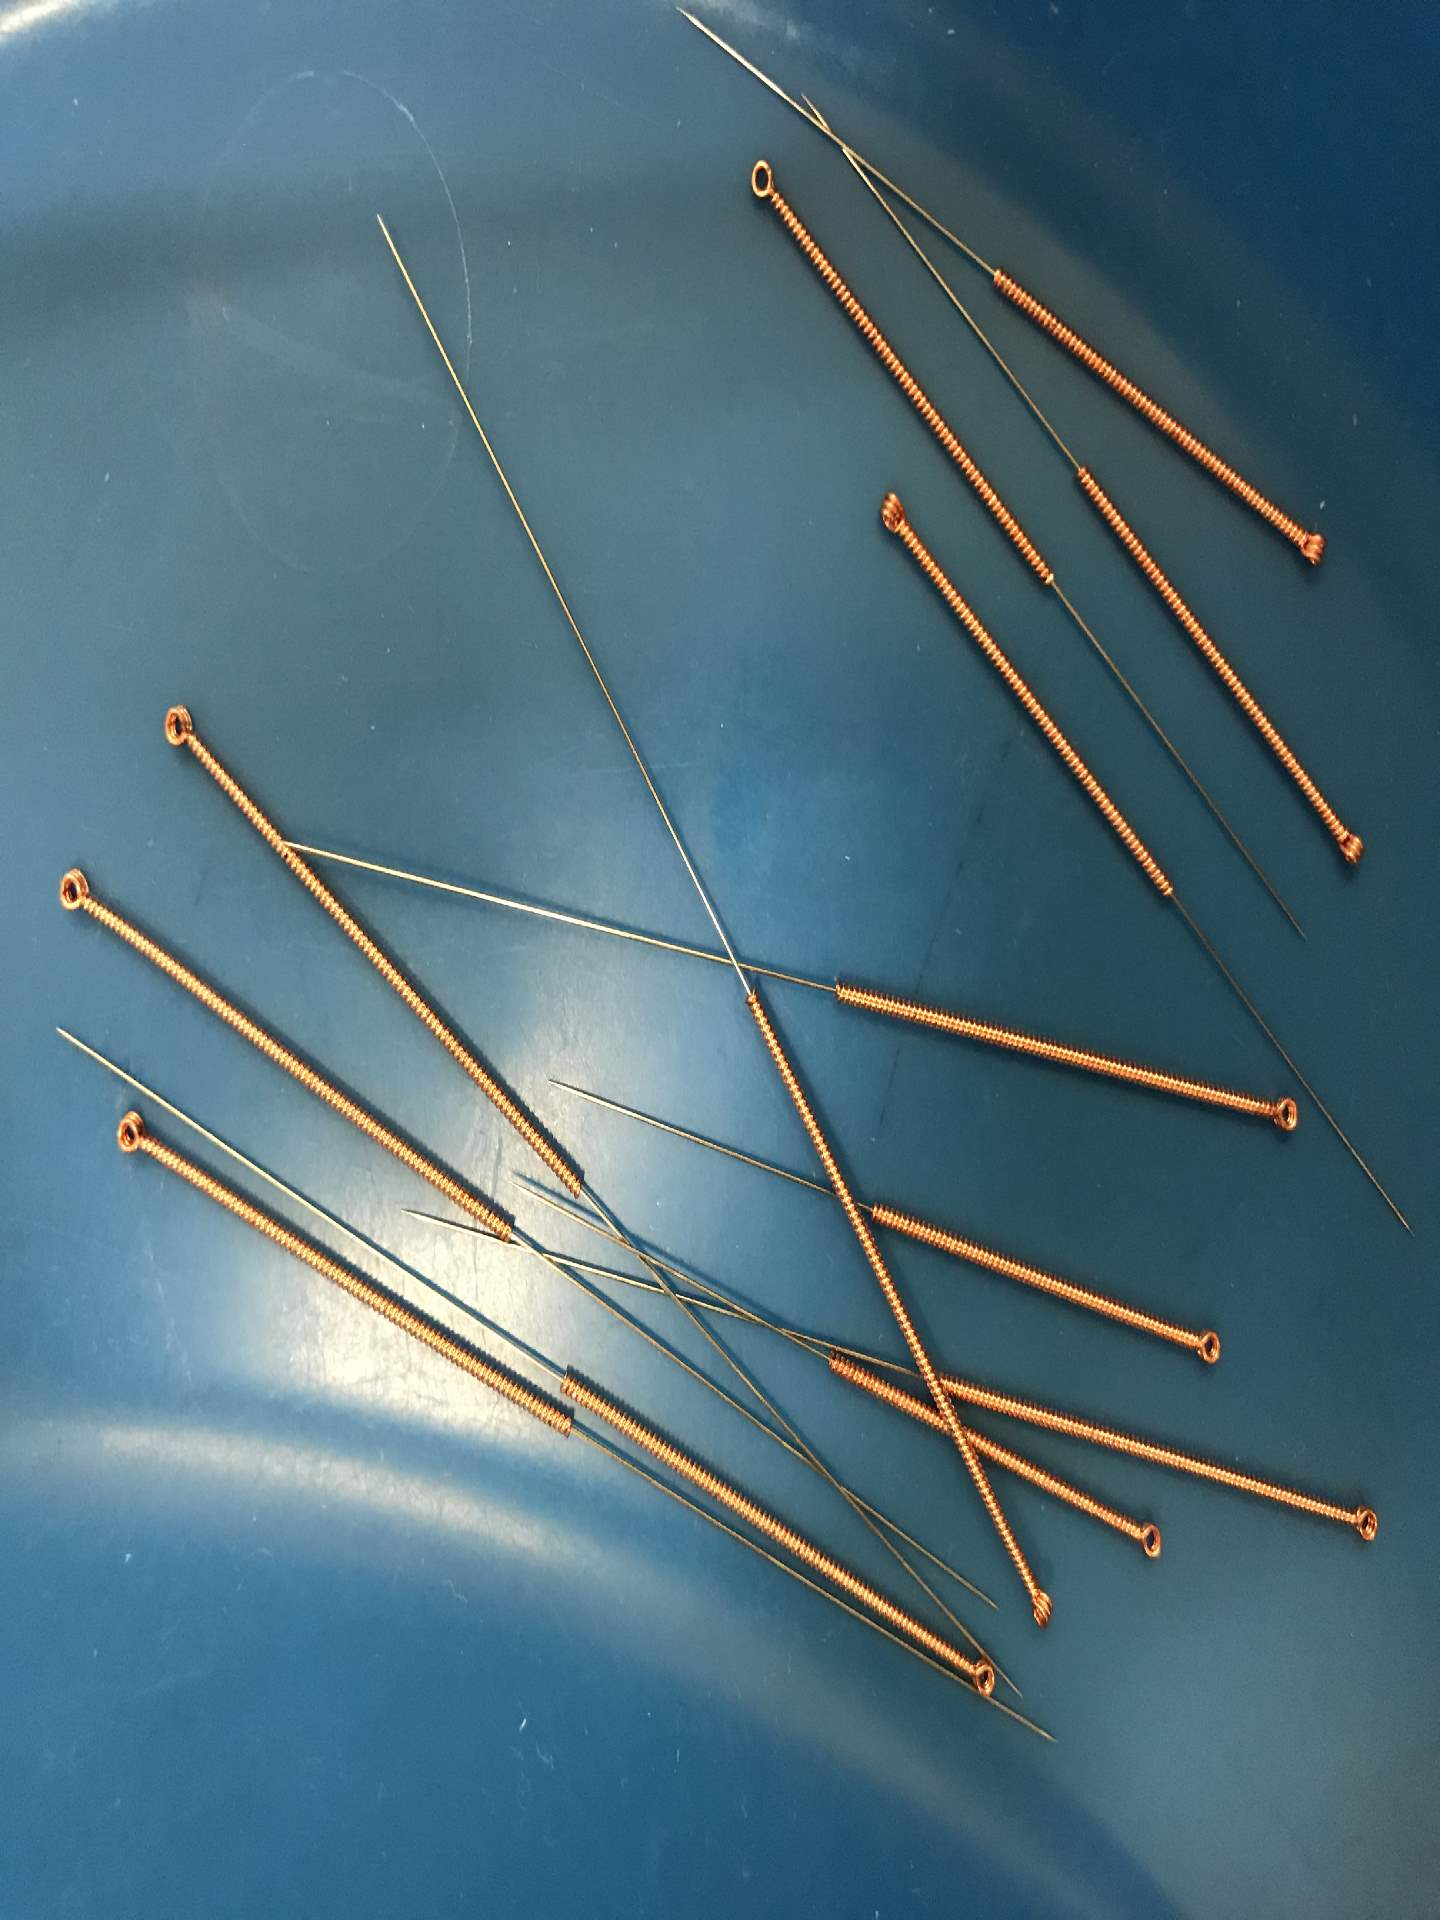needle: (729, 150, 793, 218), (42, 856, 106, 922), (148, 691, 209, 757), (1330, 1488, 1389, 1556), (1007, 1569, 1063, 1639), (1277, 513, 1337, 576), (861, 476, 917, 544), (1321, 809, 1373, 878), (1116, 1503, 1172, 1568), (103, 1101, 157, 1166), (1254, 1082, 1308, 1147), (1178, 1315, 1233, 1376), (948, 1648, 1003, 1702)
